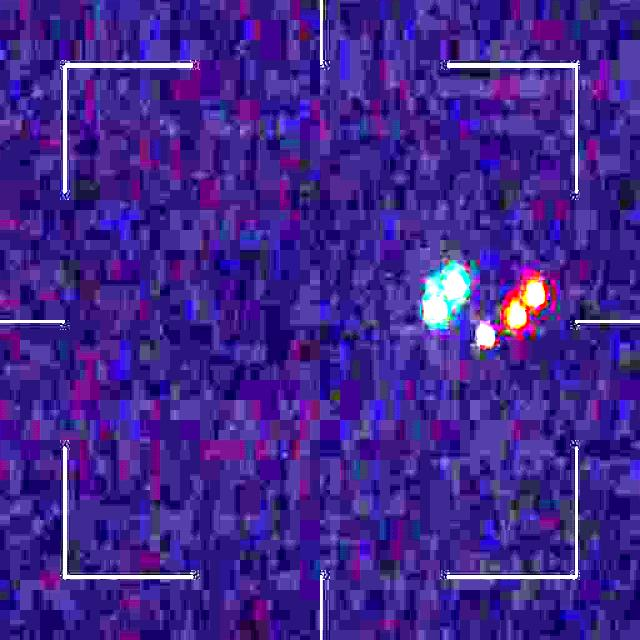bird: (426, 266, 546, 349)
